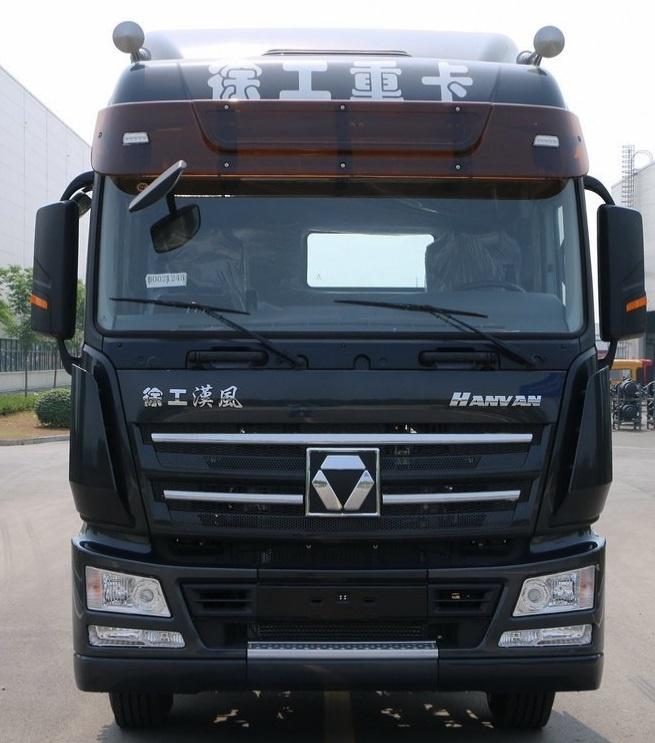heavy truck: (49, 34, 635, 719)
